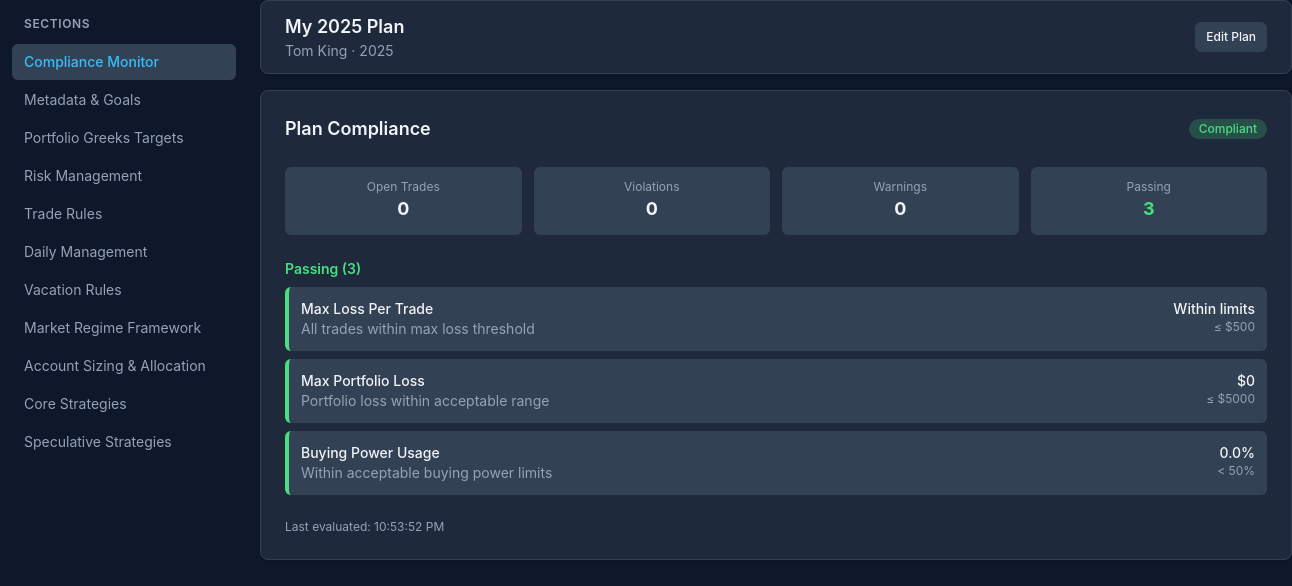
Scenario: PlanViewer › navigates to Risk Management section and shows BP thresholds
This screenshot has width=1292, height=586.
Click the button "Risk Management": x=124, y=176 [12,158,236,194]
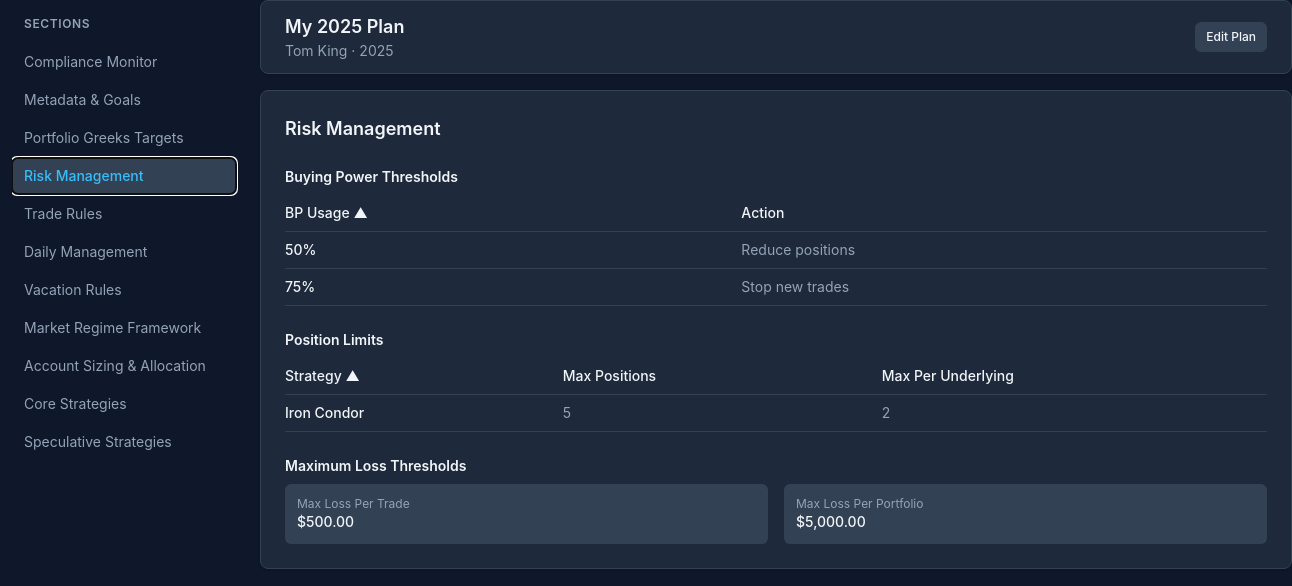
Check: the text "Reduce positions" is shown, box [741,232,1267,268]
Check: the text "75%" is shown, box [285,268,741,306]
Check: the text "Stop new trades" is shown, box [741,268,1267,306]
